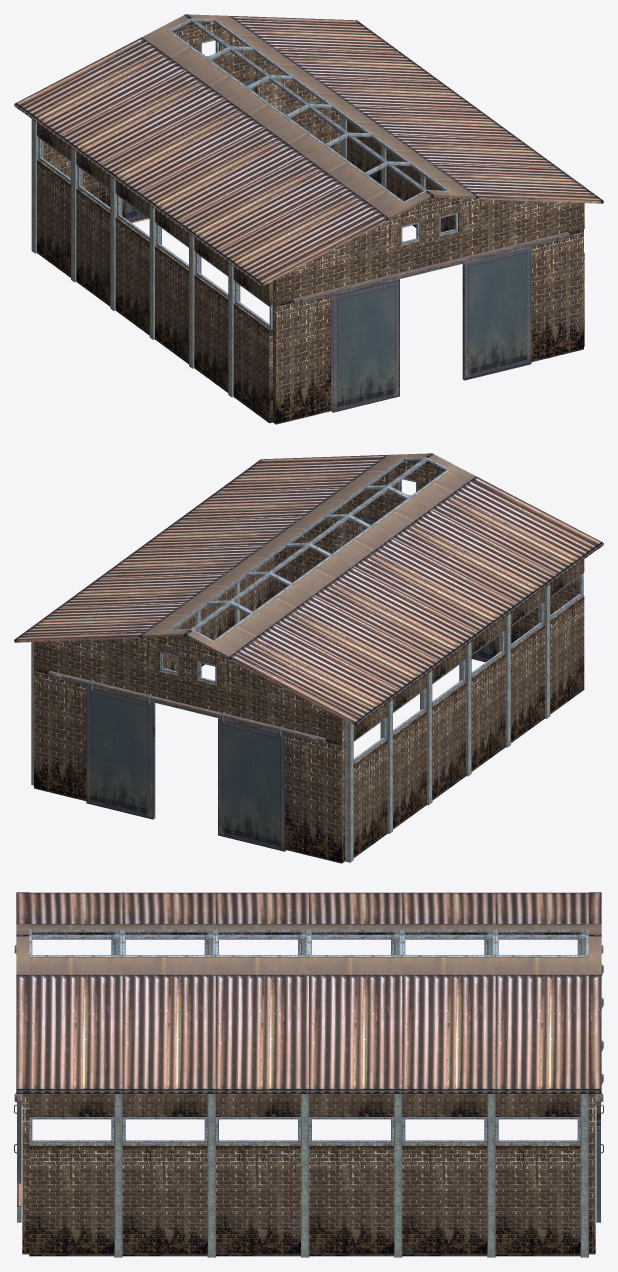
File: BackgroundBuilding_Barn_01.fbx
3 renders of one model, top to bottom at view 1: azimuth 30°, elevation 25°; view 2: azimuth 150°, elevation 25°; view 3: azimuth 270°, elevation 25°, orthographic. The views are drawn at different scales.
Parts seen in each view (by area): view 1: Barn, Door4, Door3; view 2: Barn, Door1, Door2; view 3: Barn, Door1, Door4.
Part boxes in pixels (x1,y1,x2,y2): Barn: (14, 14, 603, 424); Door4: (462, 247, 531, 380); Door3: (331, 279, 399, 412); Barn: (14, 453, 603, 863); Door1: (86, 679, 155, 819); Door2: (218, 711, 286, 851); Barn: (14, 892, 603, 1257); Door1: (596, 1040, 603, 1222); Door4: (14, 1102, 21, 1222).
Bounding box in the file's own units: 1805 × 975 × 2265.
